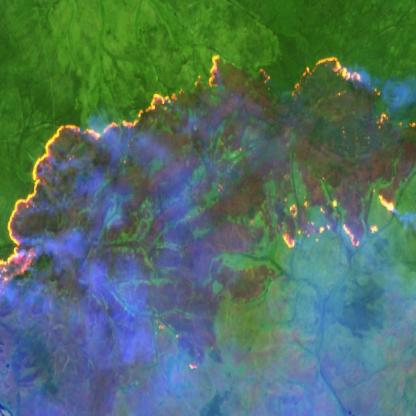fire: (0, 107, 85, 296), (80, 49, 224, 160), (277, 57, 416, 131), (278, 188, 403, 254), (156, 318, 201, 372), (250, 60, 274, 92)
